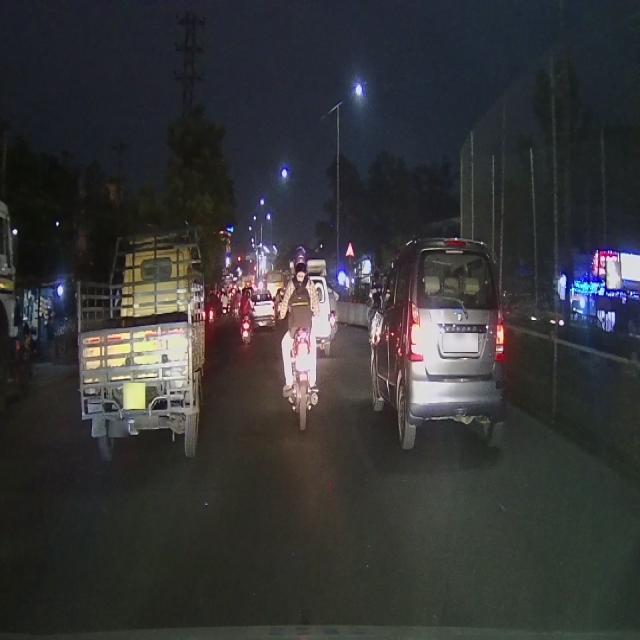auto ahead at: (79, 229, 209, 458)
car ahead at: (372, 238, 505, 446)
